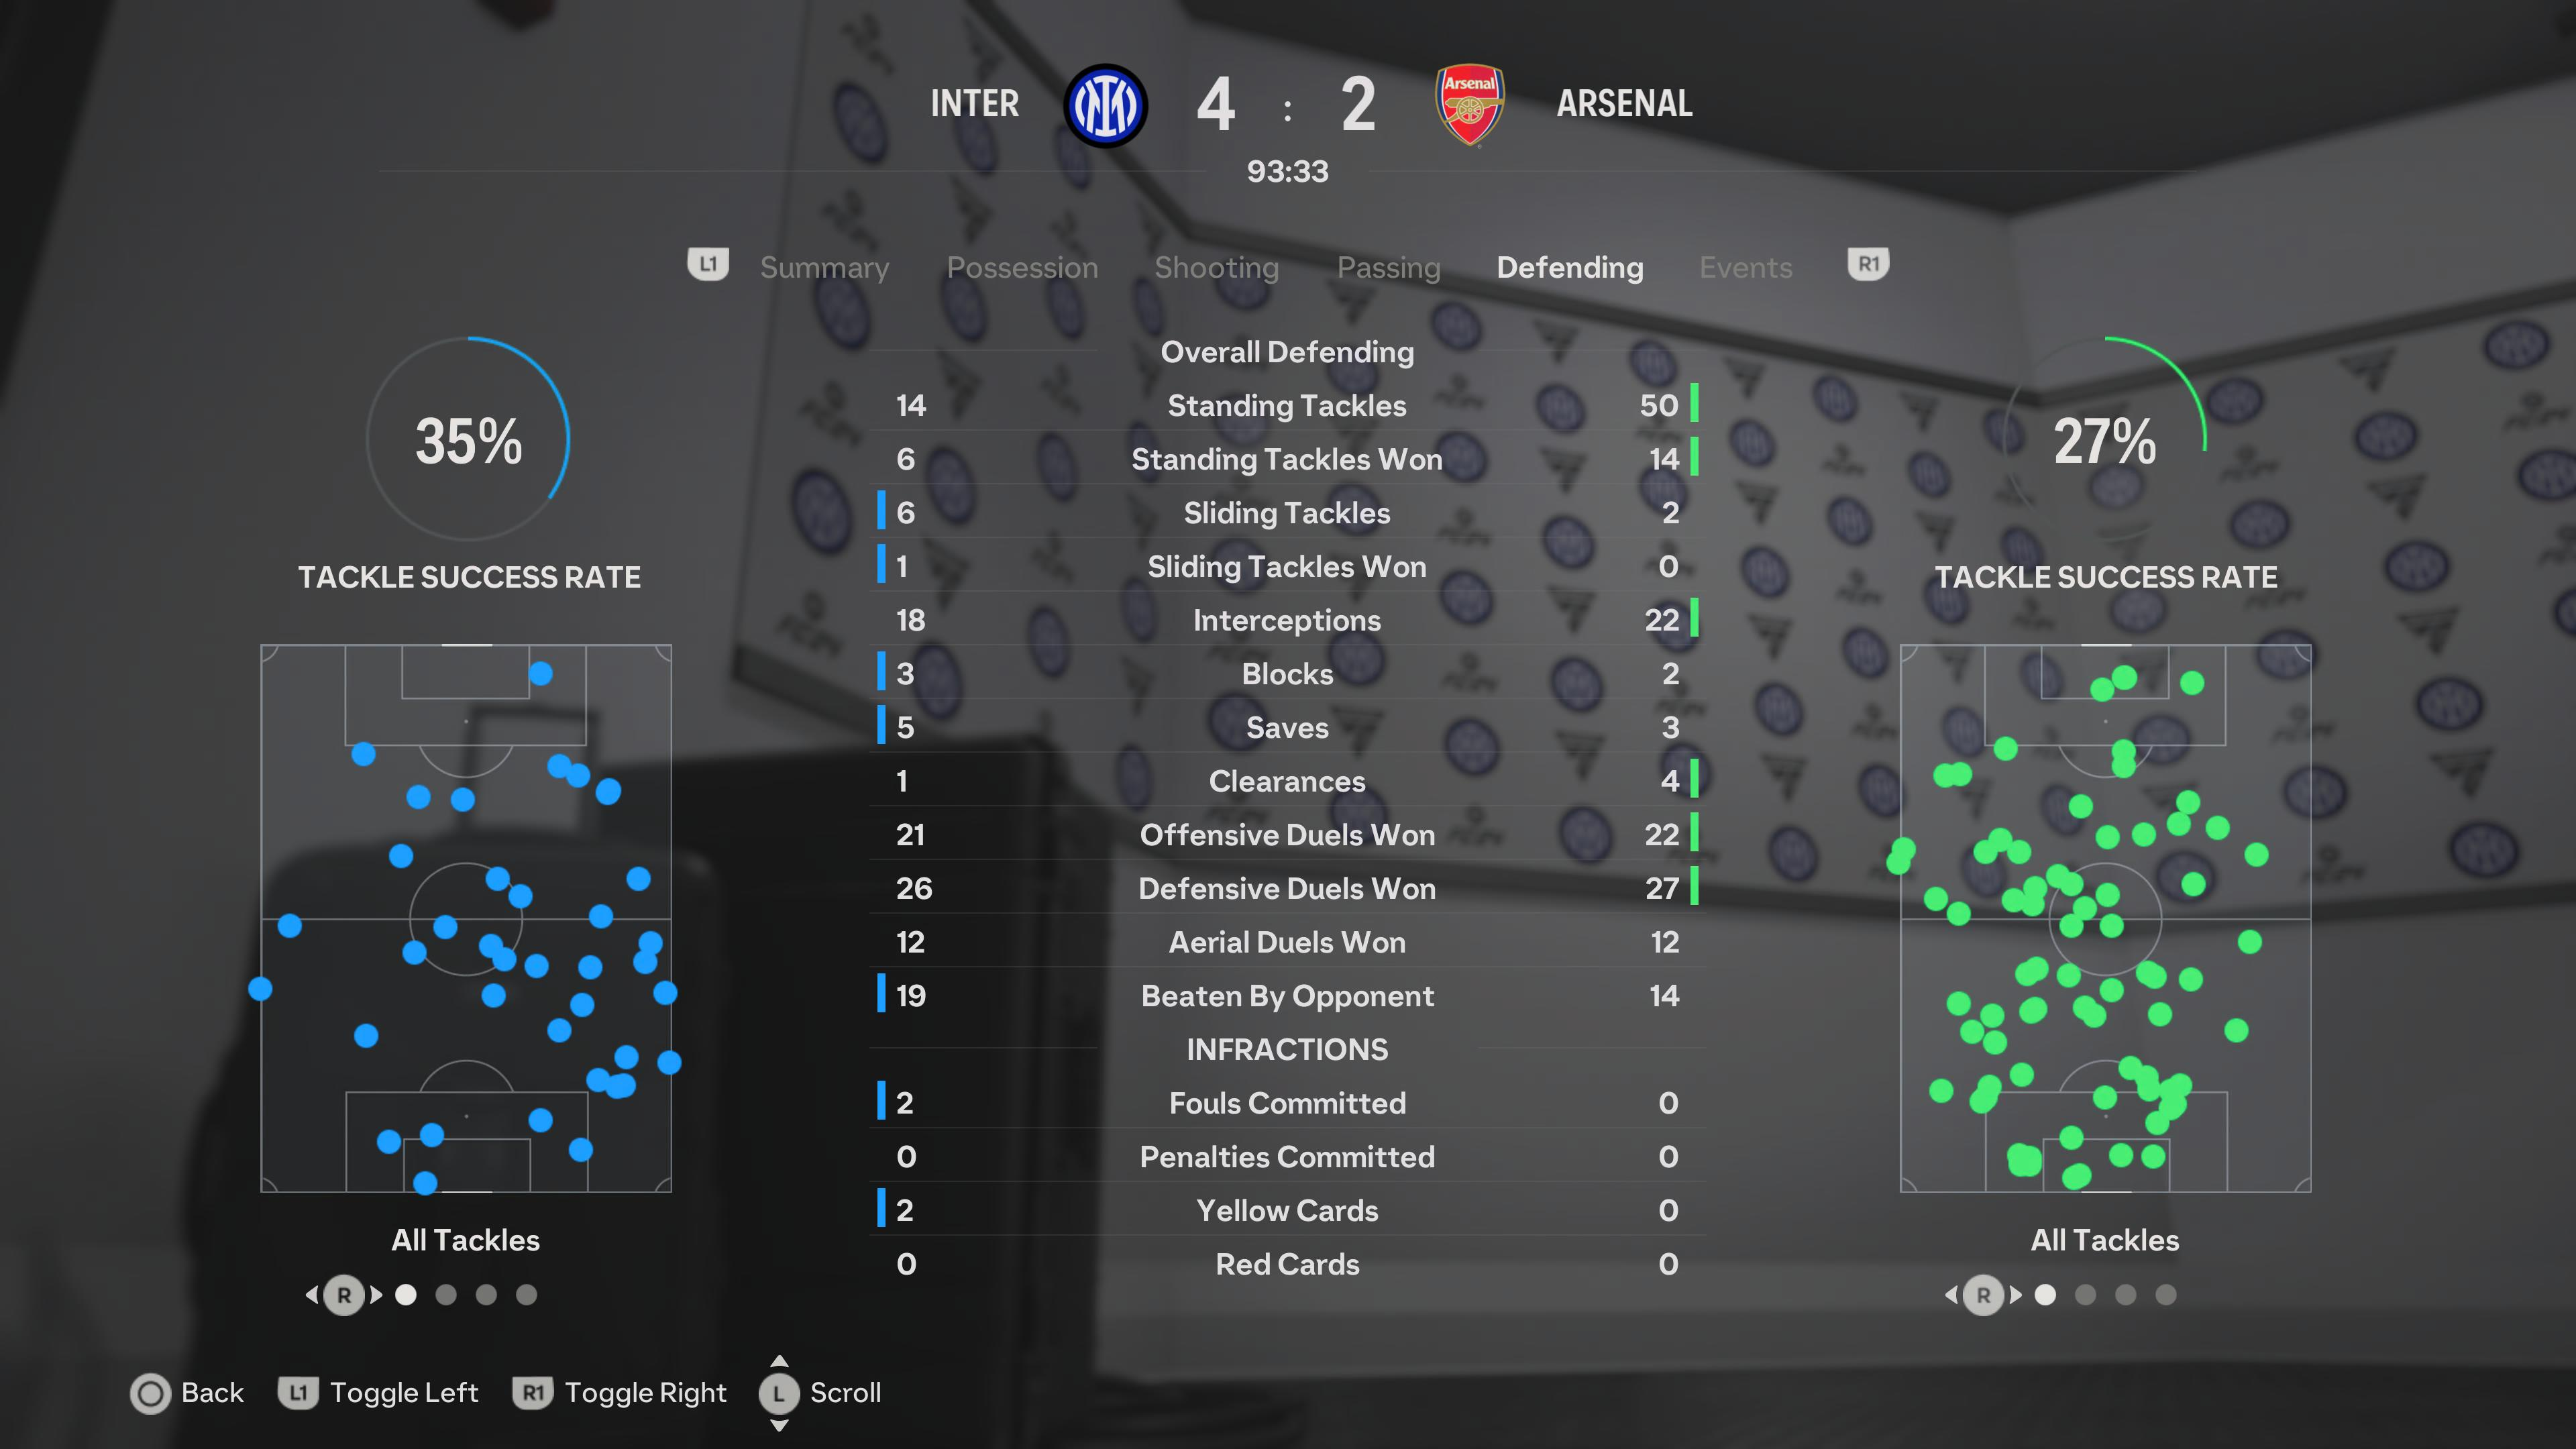AERIAL_DUELS_WON_AWAY: (1626, 915, 1684, 959)
AERIAL_DUELS_WON_HOME: (892, 913, 973, 957)
BEATEN_BY_OPPONENT_AWAY: (1629, 962, 1688, 1016)
BEATEN_BY_OPPONENT_HOME: (892, 962, 970, 1021)
BLOCKS_AWAY: (1626, 642, 1688, 694)
BLOCKS_HOME: (892, 640, 970, 694)
CLEARANCES_AWAY: (1628, 752, 1686, 801)
CLEARANCES_HOME: (886, 752, 970, 800)
DEFENSIVE_DUELS_WON_AWAY: (1628, 863, 1684, 911)
DEFENSIVE_DUELS_WON_HOME: (888, 855, 973, 911)
FOULS_COMMITTED_AWAY: (1629, 1067, 1686, 1122)
FOULS_COMMITTED_HOME: (888, 1076, 973, 1122)
INTERCEPTIONS_AWAY: (1626, 591, 1686, 640)
INTERCEPTIONS_HOME: (892, 594, 970, 640)
OFFENSIVE_DUELS_WON_AWAY: (1628, 807, 1686, 860)
OFFENSIVE_DUELS_WON_HOME: (892, 803, 970, 855)
PAGE_ID: (283, 545, 660, 610)
PENALTIES_COMMITTED_AWAY: (1631, 1123, 1684, 1177)
PENALTIES_COMMITTED_HOME: (888, 1125, 975, 1175)
RED_CARDS_AWAY: (1621, 1238, 1686, 1286)
RED_CARDS_HOME: (890, 1235, 975, 1284)
SAVES_AWAY: (1626, 695, 1684, 750)
SAVES_HOME: (890, 695, 970, 750)
SLIDING_TACKLES_AWAY: (1629, 483, 1684, 536)
SLIDING_TACKLES_HOME: (890, 479, 970, 534)
SLIDING_TACKLES_WON_AWAY: (1628, 540, 1686, 591)
SLIDING_TACKLES_WON_HOME: (892, 536, 970, 593)
STANDING_TACKLES_AWAY: (1626, 370, 1686, 428)
STANDING_TACKLES_HOME: (890, 375, 966, 426)
STANDING_TACKLES_WON_AWAY: (1628, 435, 1684, 476)
STANDING_TACKLES_WON_HOME: (888, 428, 966, 483)
TACKLE_SUCCESS_RATE_AWAY: (2031, 389, 2183, 490)
TACKLE_SUCCESS_RATE_HOME: (393, 389, 547, 488)
YELLOW_CARDS_AWAY: (1629, 1178, 1684, 1233)
YELLOW_CARDS_HOME: (892, 1177, 973, 1235)
